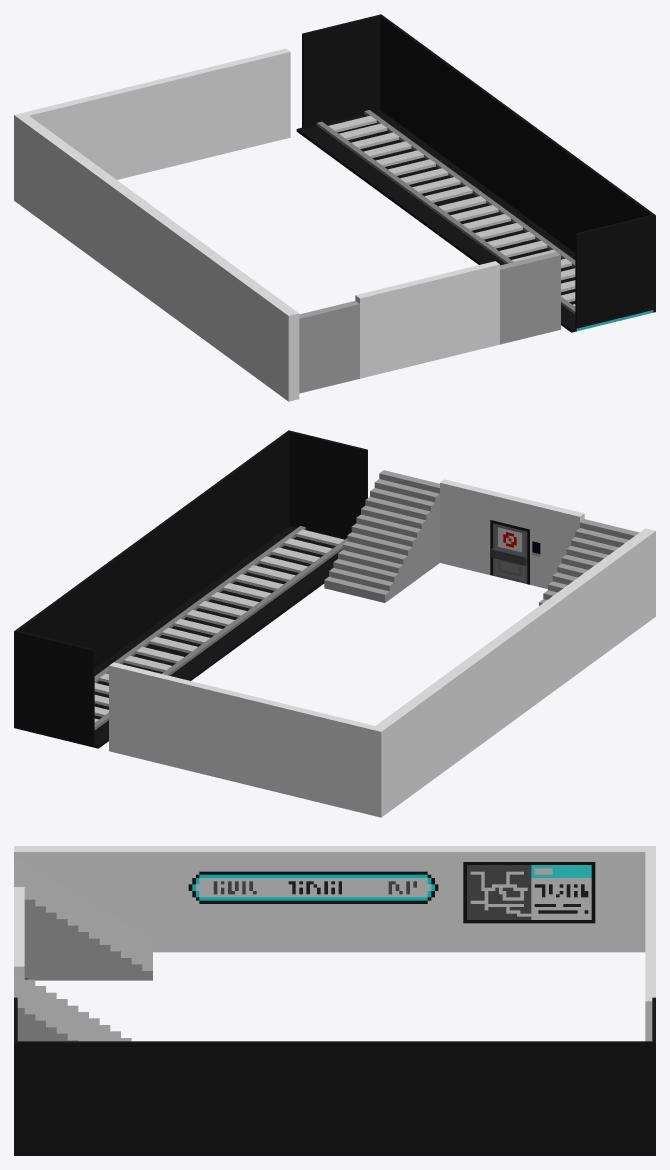
The model's file is subway2-2.obj.
3 renders of one model, top to bottom at view 1: azimuth 30°, elevation 25°; view 2: azimuth 150°, elevation 25°; view 3: azimuth 270°, elevation 25°, orthographic. The views are drawn at different scales.
Size of the model in its own units: 13.9 by 3.5 by 18.
1 material, 1 textured.
